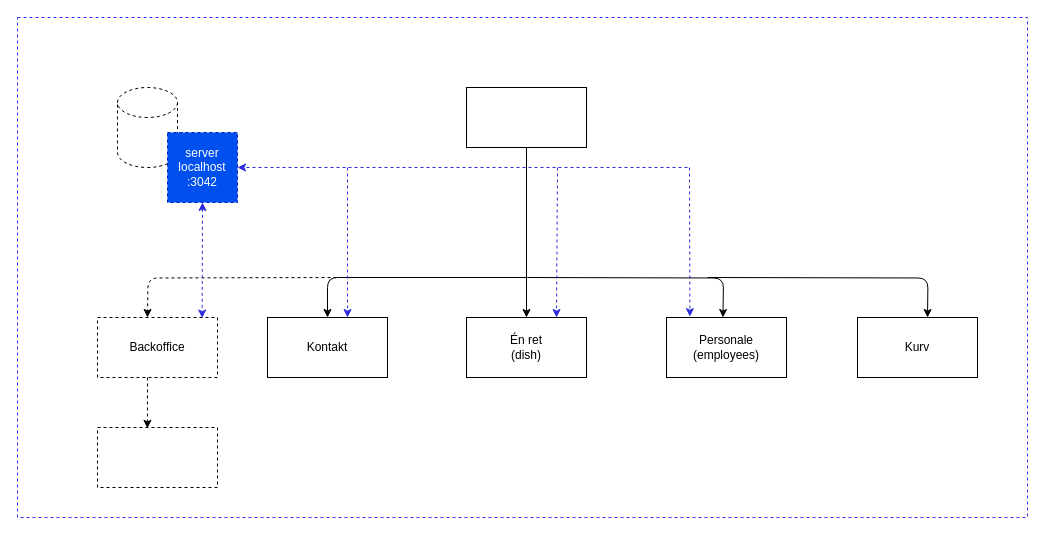
This 1045x535 diagram has some shape labels left out. The box of each missing label's shape, as (x1, y1, x2, y2) in pixels:
DB: (116, 86, 178, 168)
Den Glade Skorpe: (466, 86, 586, 148)
Employees (put, post, delete): (96, 426, 218, 488)
